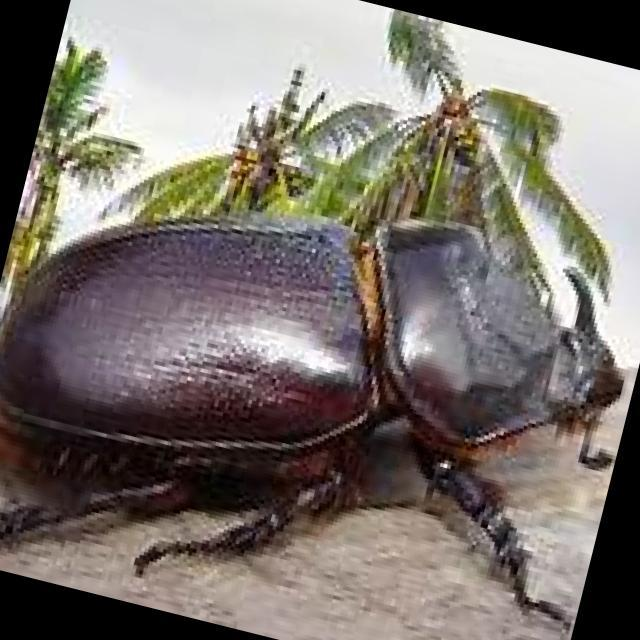Rhino-beetle: (0, 202, 633, 598)
